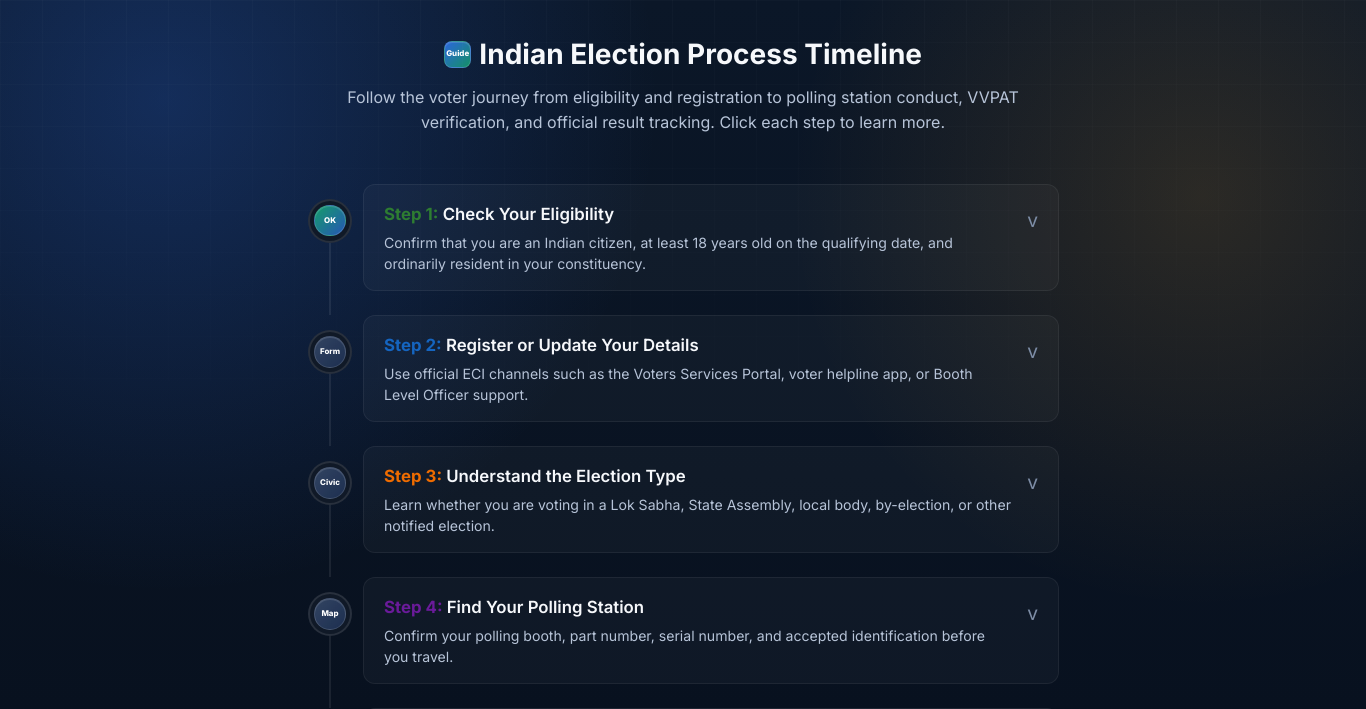
Test: Learn Page › expands step details when clicked
This screenshot has width=1366, height=709.
Click the button "Check Your Eligibility" at (711, 238), box [363,184,1059,291]
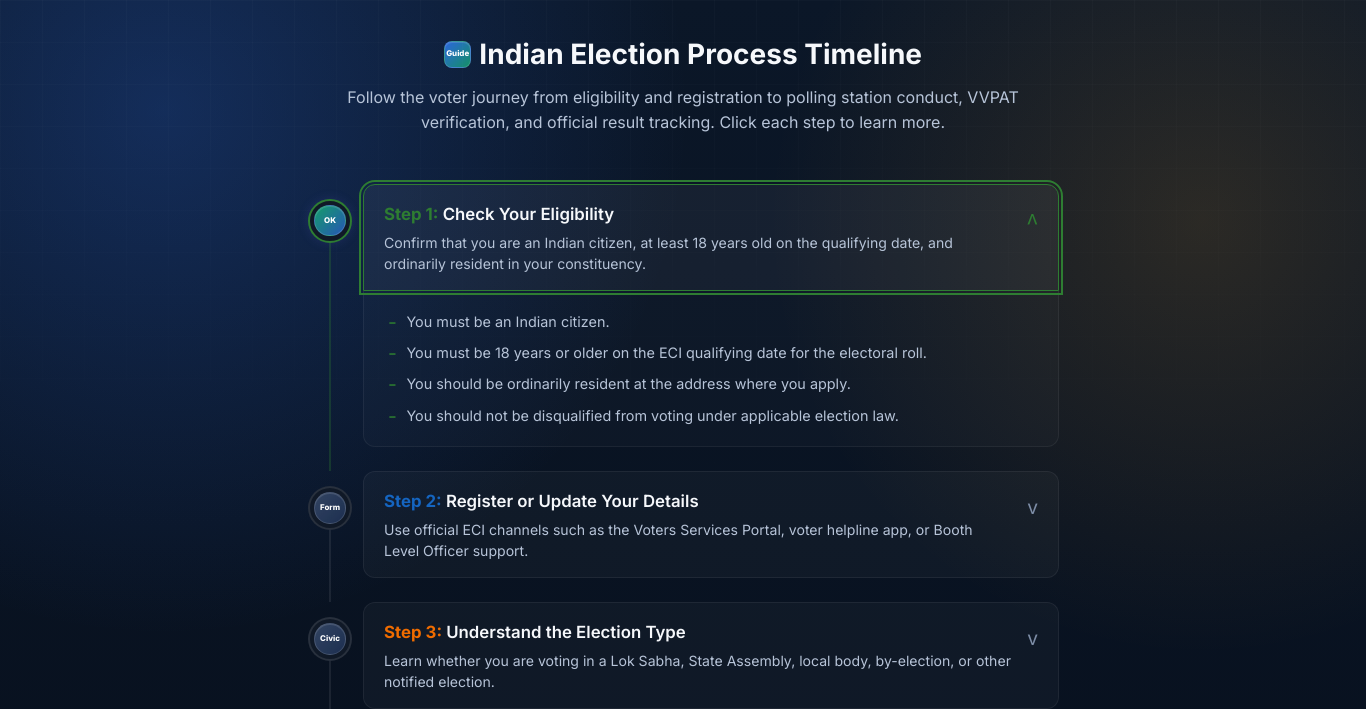
expect the button "Check Your Eligibility" is expanded: met, box [363,184,1059,291]
